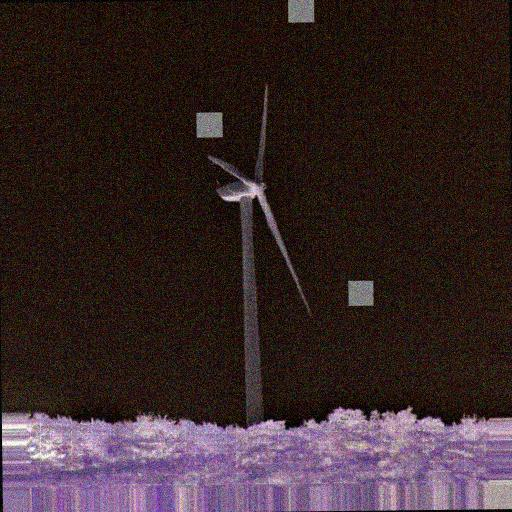wind turbine: (208, 83, 317, 426)
